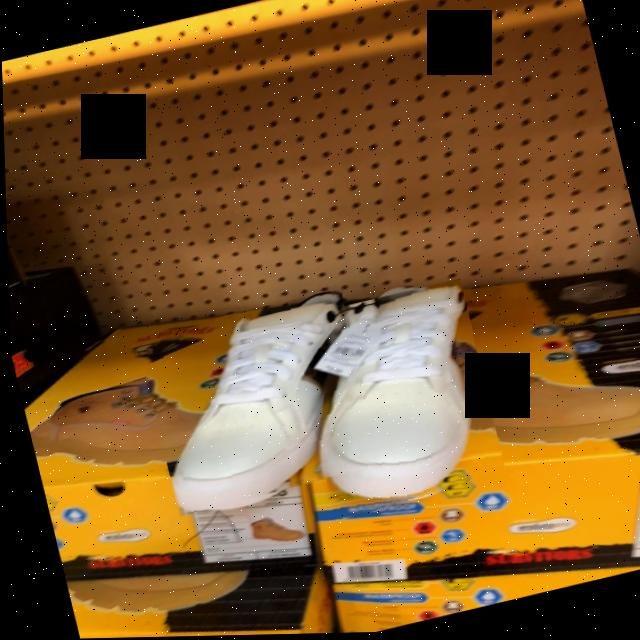shoe: (168, 291, 347, 508), (322, 290, 467, 505)
